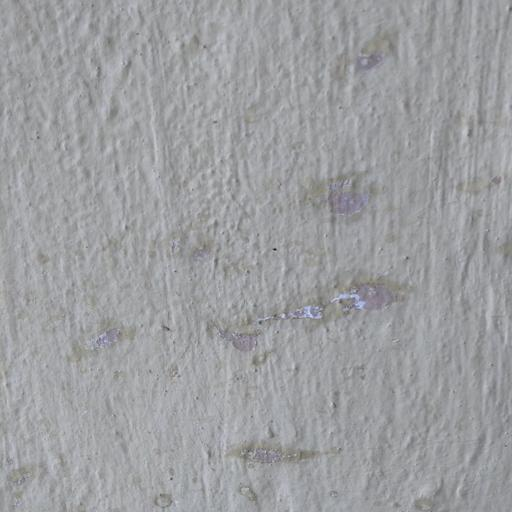stain: (214, 254, 416, 371), (279, 160, 405, 240), (57, 286, 149, 374), (212, 418, 343, 474), (3, 436, 94, 512), (331, 12, 406, 91), (449, 154, 508, 206), (230, 477, 282, 512), (144, 480, 194, 512)
